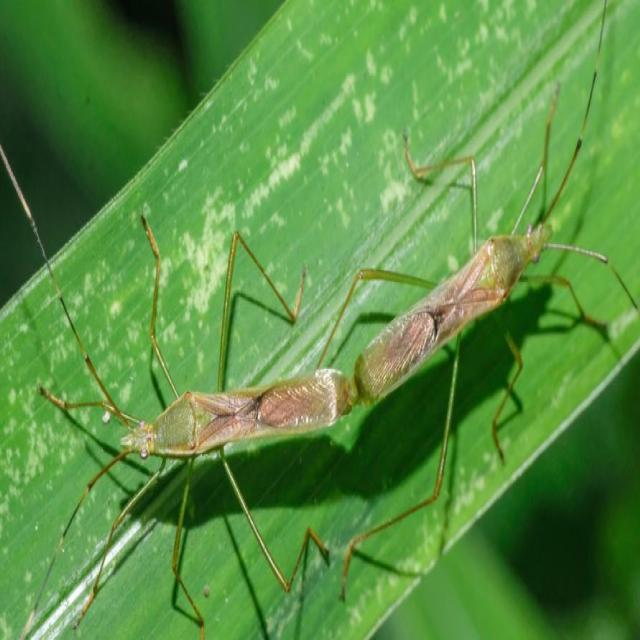walang sangit pada tanaman padi: (4, 6, 634, 634)
